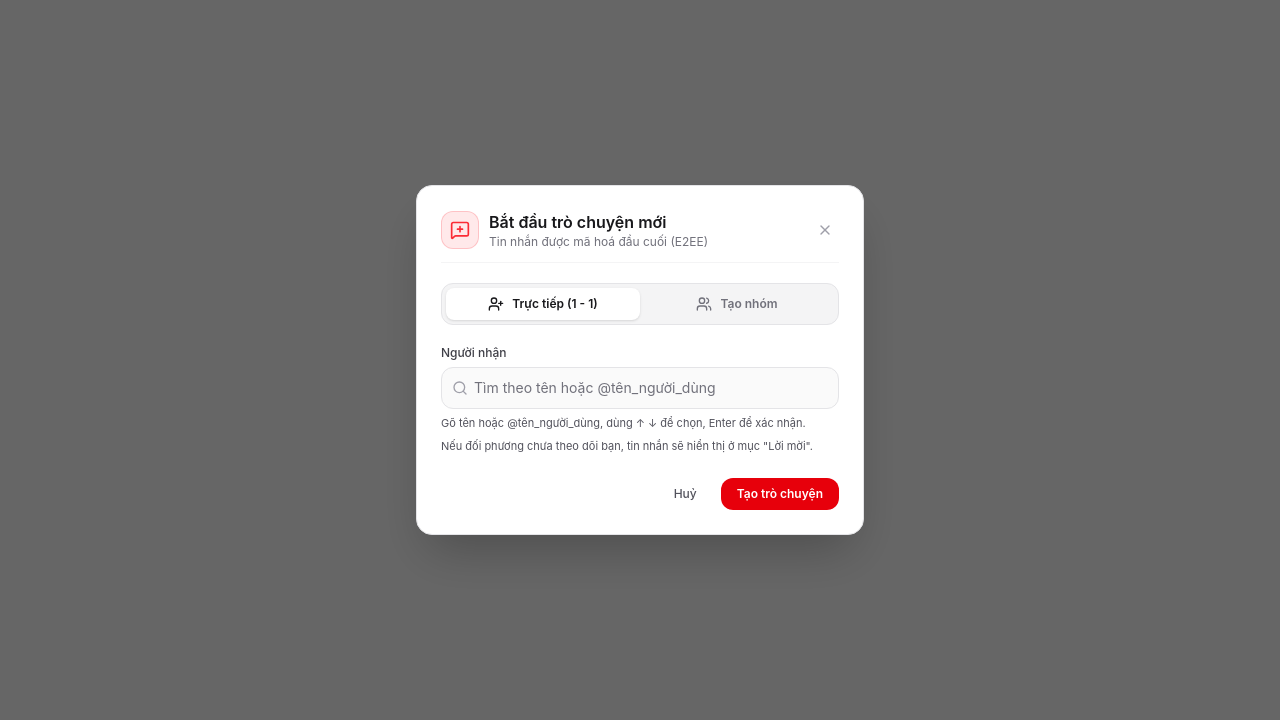
Test: SOC-6b: friends first and the notification › the new-chat dialog suggests friends before typing
Focus the dropdown labelled "Người nhận". click: (651, 388)
box: [474, 376, 828, 400]
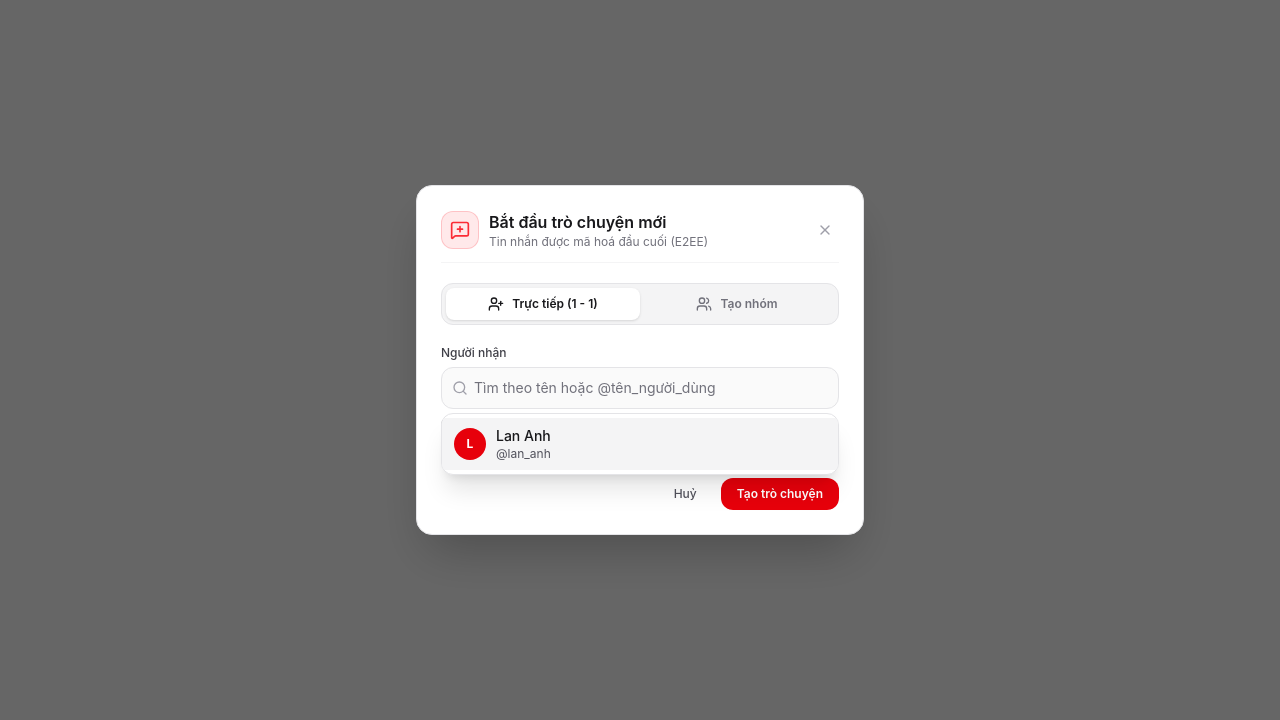
Result: the option "L Lan Anh @lan_anh" is shown at [442, 418, 838, 470]
